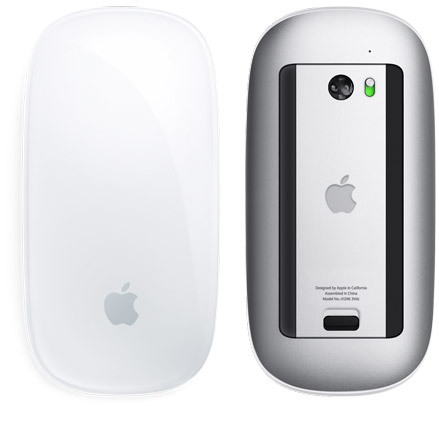Apple: (95, 275, 156, 332), (316, 171, 369, 221)
